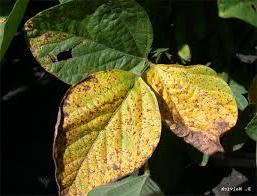Tomato Septoria leaf spot: (42, 71, 160, 194), (14, 2, 154, 90), (144, 59, 239, 157)
